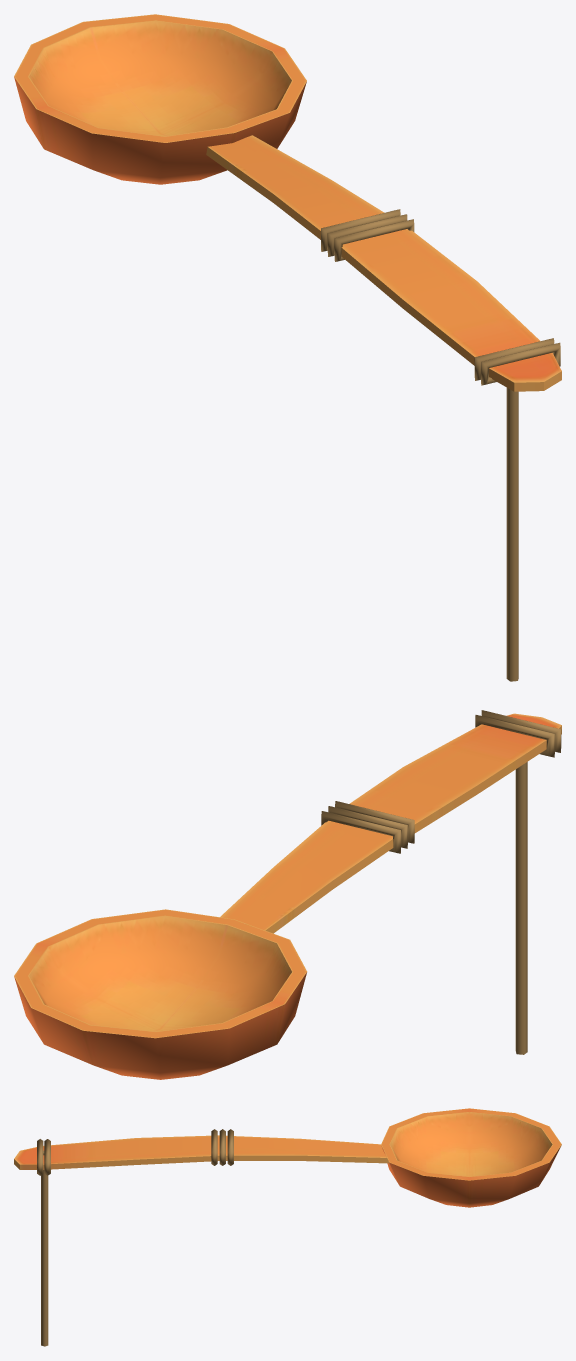
Rendered from FBX_toyshovel_02.fbx.
3 renders of one model, top to bottom at view 1: azimuth 30°, elevation 25°; view 2: azimuth 150°, elevation 25°; view 3: azimuth 270°, elevation 25°, orthographic. The views are drawn at different scales.
Parts seen in each view (by area): view 1: FBX_toyshovel_02; view 2: FBX_toyshovel_02; view 3: FBX_toyshovel_02.
Part boxes in pixels (x1=…): FBX_toyshovel_02: x1=14, y1=14, x2=561, y2=681; FBX_toyshovel_02: x1=14, y1=710, x2=561, y2=1079; FBX_toyshovel_02: x1=14, y1=1108, x2=561, y2=1346.
Size of the model in its own units: 35.51 by 47.09 by 114.
